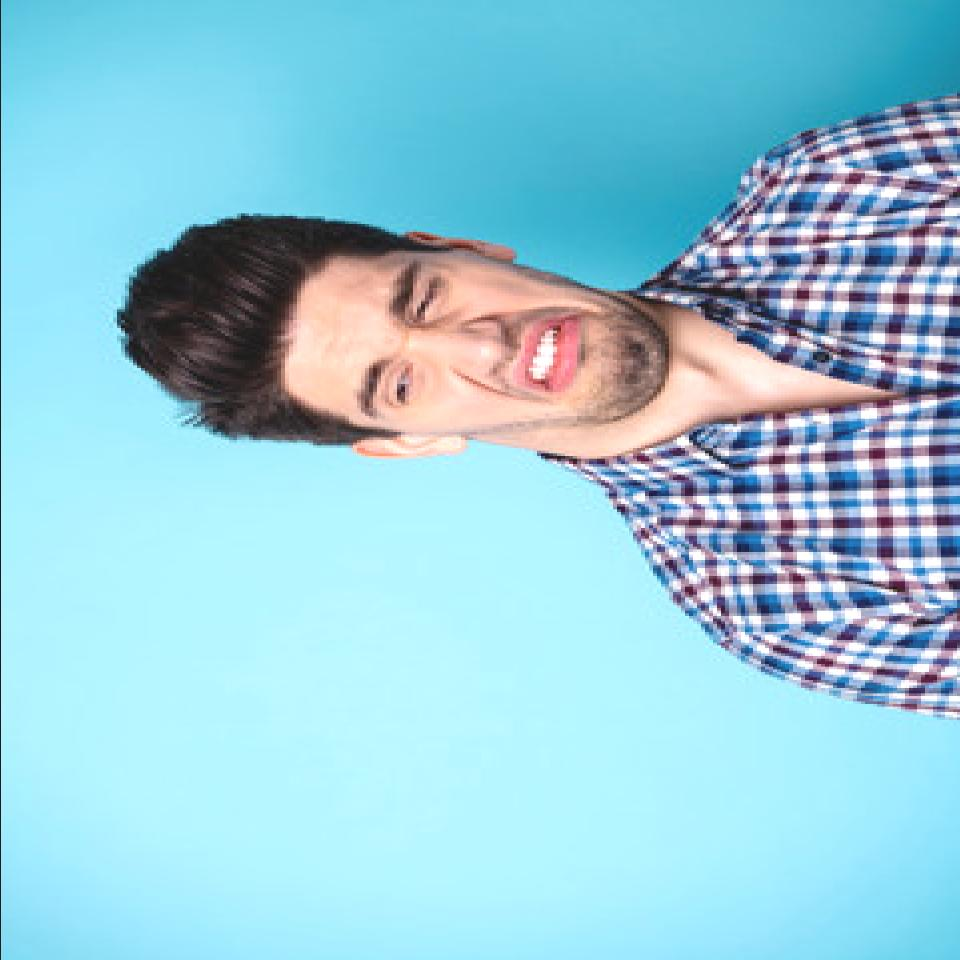Disgust: (287, 233, 669, 435)
